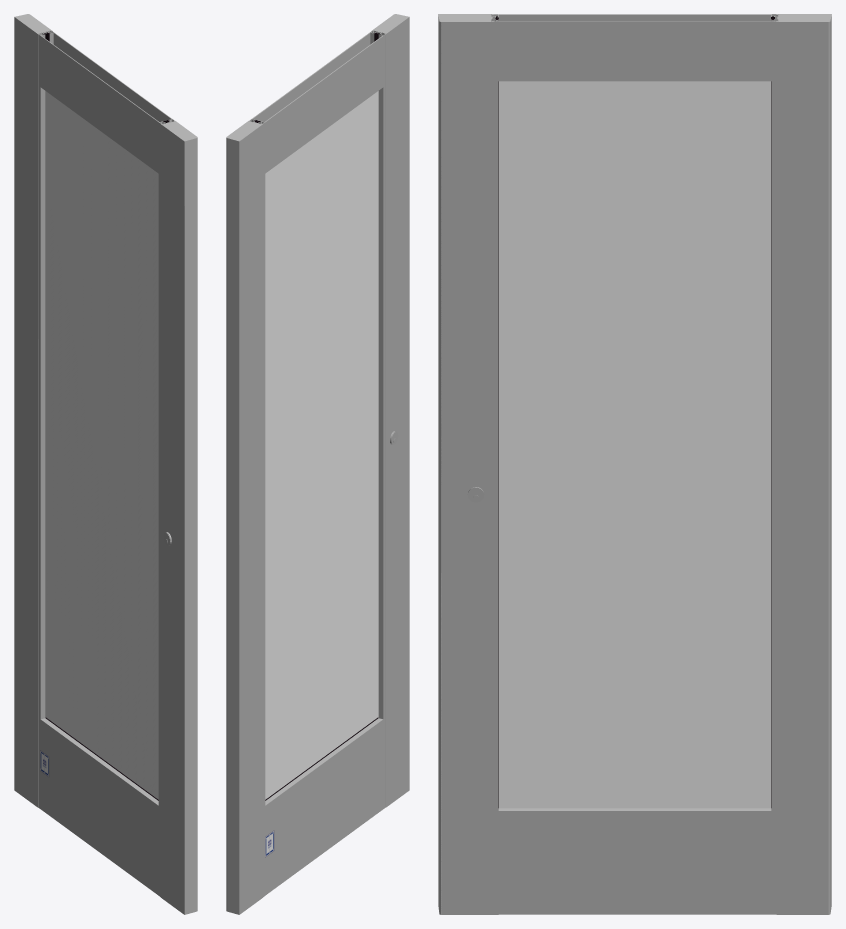
Rendered from D500_Slab.glb.
3 views of the same model, side by side, from view 1: azimuth 30°, elevation 25°; view 2: azimuth 150°, elevation 25°; view 3: azimuth 270°, elevation 25° (orthographic). The views are drawn at different scales.
Visible parts, largest first — view 1: Cube.011, PROFILE_curve_.067, D500, PROFILE_curve_.066, PROFILE_curve_.065; view 2: Cube.011, D500, PROFILE_curve_.067, PROFILE_curve_.066, PROFILE_curve_.065; view 3: Cube.011, D500, PROFILE_curve_.067, PROFILE_curve_.066, PROFILE_curve_.065.
Part boxes in pixels (x1=…): Cube.011: x1=45, y1=91, x2=158, y2=799; PROFILE_curve_.067: x1=158, y1=119, x2=197, y2=914; D500: x1=14, y1=14, x2=53, y2=808; PROFILE_curve_.066: x1=40, y1=718, x2=158, y2=895; PROFILE_curve_.065: x1=40, y1=32, x2=171, y2=173; Cube.011: x1=265, y1=91, x2=378, y2=799; D500: x1=226, y1=119, x2=265, y2=914; PROFILE_curve_.067: x1=370, y1=14, x2=409, y2=808; PROFILE_curve_.066: x1=265, y1=718, x2=383, y2=895; PROFILE_curve_.065: x1=252, y1=32, x2=383, y2=173; Cube.011: x1=499, y1=81, x2=770, y2=808; D500: x1=771, y1=14, x2=831, y2=914; PROFILE_curve_.067: x1=438, y1=14, x2=498, y2=914; PROFILE_curve_.066: x1=498, y1=808, x2=771, y2=914; PROFILE_curve_.065: x1=498, y1=14, x2=771, y2=81.
Bounding box in the file's own units: 0.054 × 2.29 × 0.9144.
5 materials, 1 textured.
